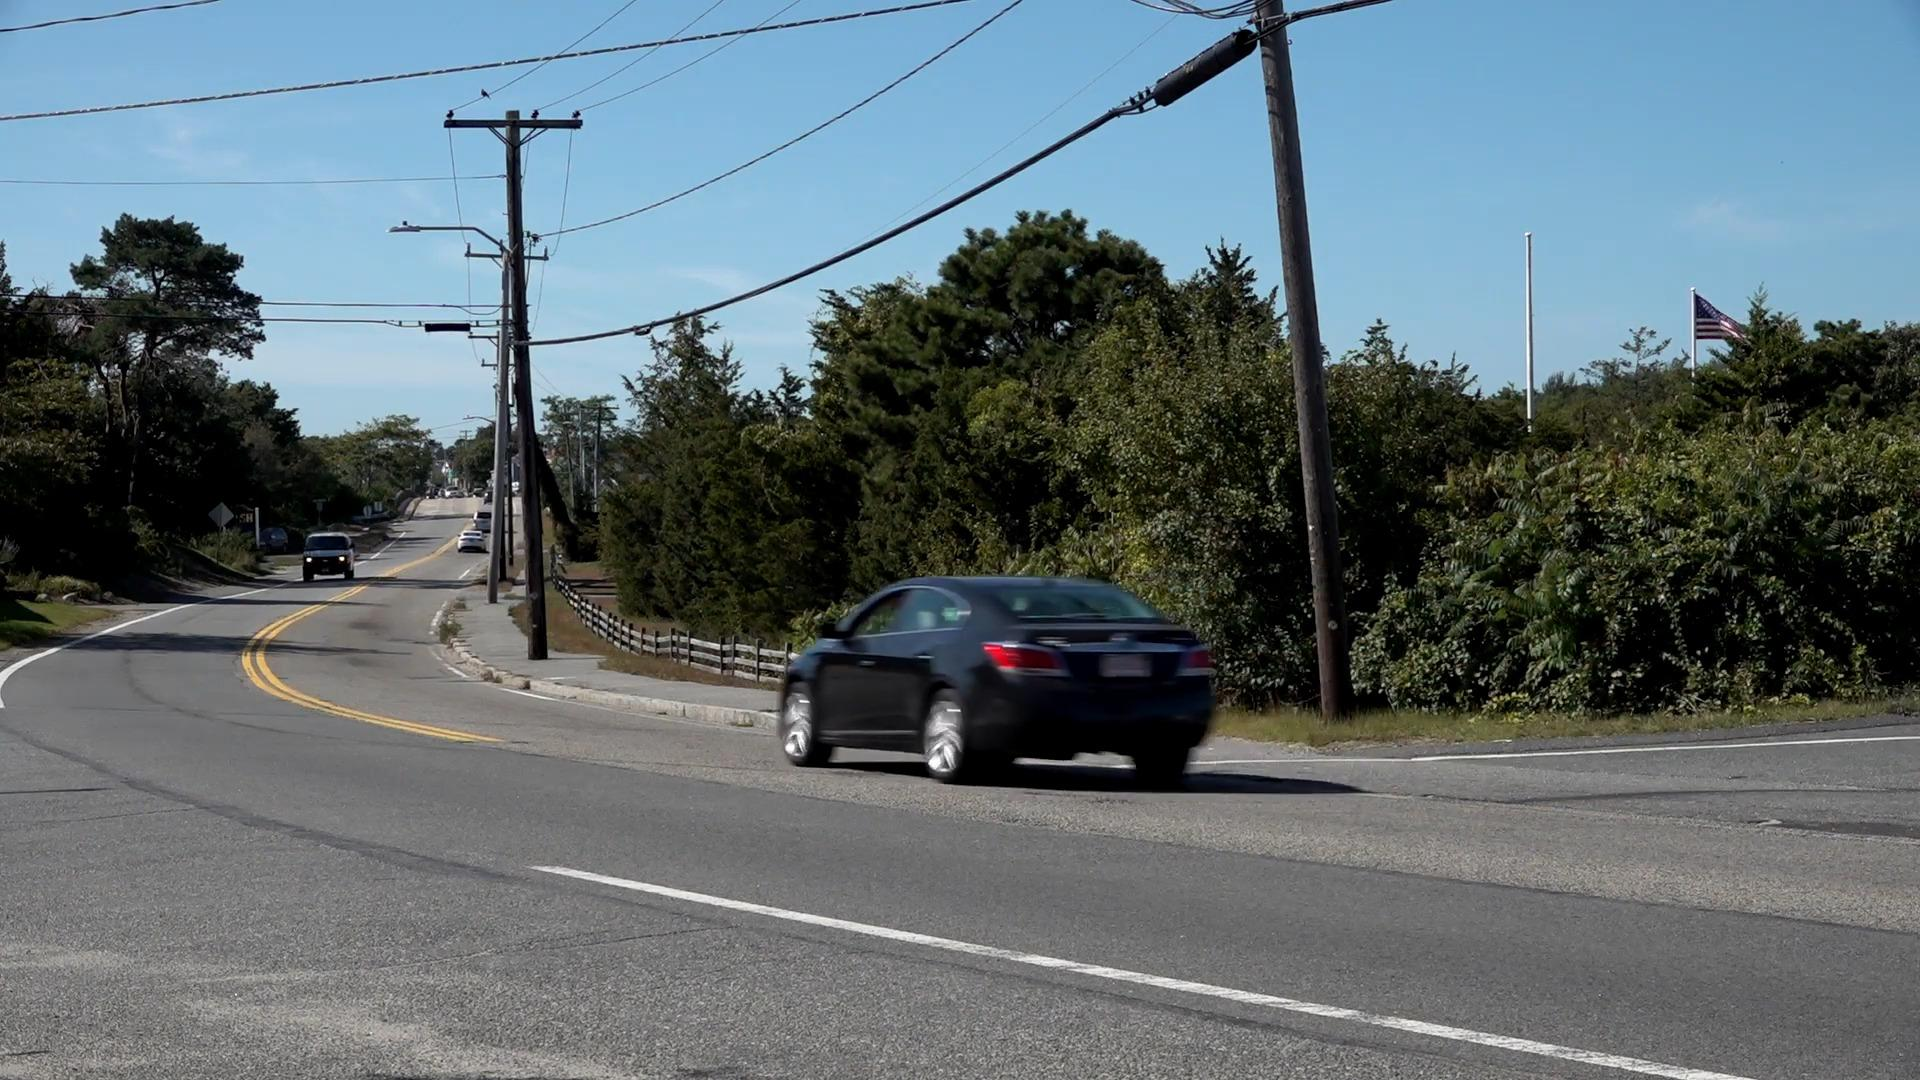minivan: (297, 527, 359, 582)
sedans: (775, 574, 1221, 779)
